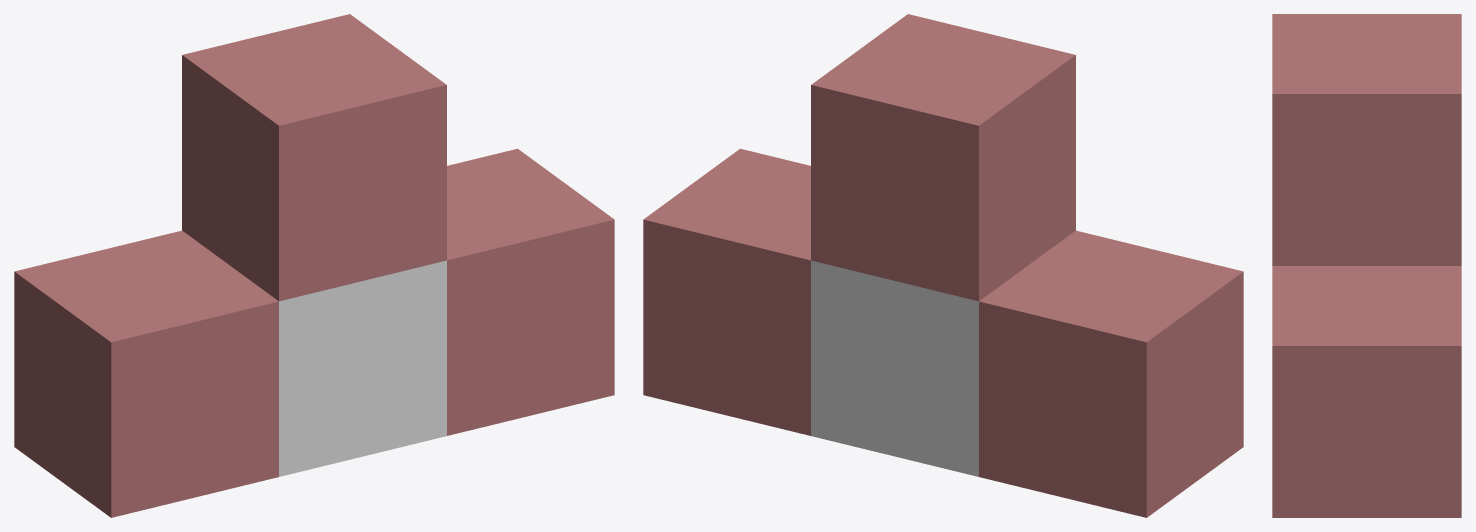
Rendered from piece2.fbx.
The picture shows the model from 3 angles, left to right: view 1: azimuth 30°, elevation 25°; view 2: azimuth 150°, elevation 25°; view 3: azimuth 270°, elevation 25°; orthographic projection. The views are drawn at different scales.
Parts seen in each view (by area): view 1: Shape_IndexedFaceSet.002; view 2: Shape_IndexedFaceSet.002; view 3: Shape_IndexedFaceSet.002.
Part boxes in pixels (x1=…): Shape_IndexedFaceSet.002: x1=14, y1=14, x2=614, y2=517; Shape_IndexedFaceSet.002: x1=643, y1=14, x2=1243, y2=517; Shape_IndexedFaceSet.002: x1=1272, y1=14, x2=1461, y2=517.
Bounding box in the file's own units: 300 × 200 × 100.
